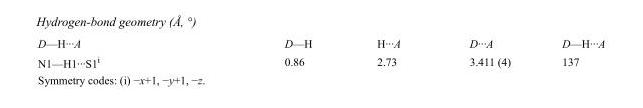table: (37, 36, 604, 69)
table column: (37, 36, 191, 69), (191, 36, 343, 69), (434, 36, 535, 69), (343, 36, 434, 69), (535, 36, 604, 69)
table row: (37, 51, 604, 69), (37, 36, 604, 51)
